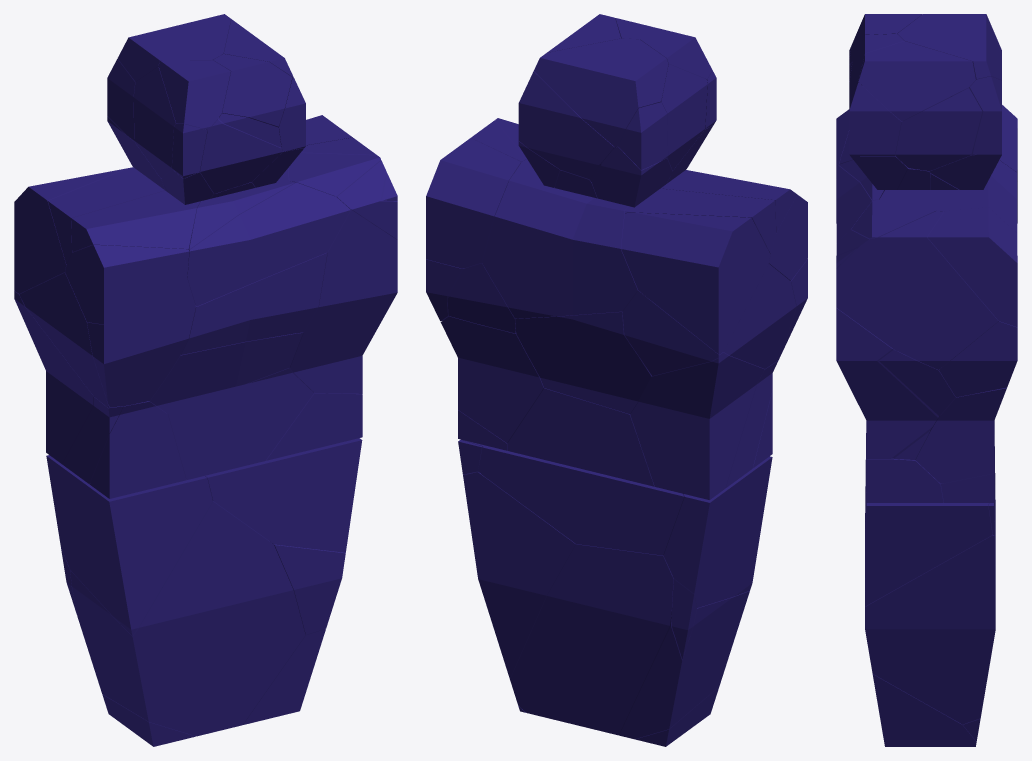
Rendered from Target_Blue_Broken.fbx.
The picture shows the model from 3 angles, left to right: view 1: azimuth 30°, elevation 25°; view 2: azimuth 150°, elevation 25°; view 3: azimuth 270°, elevation 25°; orthographic projection.
Visible parts, largest first — view 1: Cube.003_cell.011, Cube.003_cell.001, Cube.004_cell.011, Cube.003_cell.005, Cube.004_cell.029, Cube.004_cell.013, Cube.004_cell.021, Cube.004_cell.019, Cube.004_cell.003, Cube.004_cell, Cube.004_cell.015, Cube.004_cell.030 (+26 smaller); view 2: Cube.003_cell.006, Cube.004_cell.020, Cube.004_cell.022, Cube.004_cell.009, Cube.003_cell.003, Cube.003_cell.010, Cube.003_cell.001, Cube.004_cell.014, Cube.005_cell.017, Cube.003_cell.011, Cube.004_cell.006, Cube.004_cell.026 (+24 smaller); view 3: Cube.003_cell.010, Cube.004_cell.008, Cube.003_cell.005, Cube.004_cell.011, Cube.004_cell.026, Cube.005_cell.005, Cube.004_cell.010, Cube.005_cell.012, Cube.003_cell.004, Cube.005_cell.017, Cube.004_cell.025, Cube.004_cell.020 (+16 smaller).
Part boxes in pixels (left/top/right/bottom): Cube.003_cell.011: left=70, top=501, right=305, bottom=736; Cube.003_cell.001: left=46, top=455, right=212, bottom=635; Cube.004_cell.011: left=289, top=209, right=397, bottom=393; Cube.003_cell.005: left=205, top=438, right=362, bottom=552; Cube.004_cell.029: left=187, top=182, right=350, bottom=306; Cube.004_cell.013: left=168, top=368, right=313, bottom=479; Cube.004_cell.021: left=87, top=278, right=195, bottom=407; Cube.004_cell.019: left=181, top=253, right=327, bottom=354; Cube.004_cell.003: left=65, top=245, right=189, bottom=324; Cube.004_cell: left=89, top=401, right=186, bottom=498; Cube.004_cell.015: left=150, top=332, right=303, bottom=413; Cube.004_cell.030: left=71, top=190, right=200, bottom=252; Cube.003_cell.006: left=510, top=544, right=673, bottom=735; Cube.004_cell.020: left=482, top=159, right=648, bottom=318; Cube.004_cell.022: left=621, top=212, right=770, bottom=354; Cube.004_cell.009: left=630, top=349, right=764, bottom=499; Cube.003_cell.003: left=478, top=446, right=684, bottom=555; Cube.003_cell.010: left=463, top=472, right=575, bottom=678; Cube.003_cell.001: left=663, top=456, right=772, bottom=607; Cube.004_cell.014: left=514, top=311, right=652, bottom=413; Cube.005_cell.017: left=534, top=38, right=668, bottom=146; Cube.003_cell.011: left=619, top=590, right=749, bottom=739; Cube.004_cell.006: left=507, top=388, right=654, bottom=486; Cube.004_cell.026: left=426, top=138, right=520, bottom=268; Cube.003_cell.010: left=865, top=522, right=995, bottom=724; Cube.004_cell.008: left=836, top=211, right=998, bottom=369; Cube.003_cell.005: left=865, top=492, right=992, bottom=606; Cube.004_cell.011: left=836, top=308, right=938, bottom=458; Cube.004_cell.026: left=927, top=207, right=1017, bottom=327; Cube.005_cell.005: left=858, top=41, right=975, bottom=121; Cube.004_cell.010: left=915, top=387, right=1006, bottom=483; Cube.005_cell.012: left=895, top=88, right=982, bottom=170; Cube.003_cell.004: left=872, top=674, right=976, bottom=746; Cube.005_cell.017: left=897, top=14, right=1001, bottom=80; Cube.004_cell.025: left=939, top=321, right=1017, bottom=397; Cube.004_cell.020: left=879, top=160, right=1017, bottom=232.
Size of the model in its own units: 175 by 380 by 92.66.
